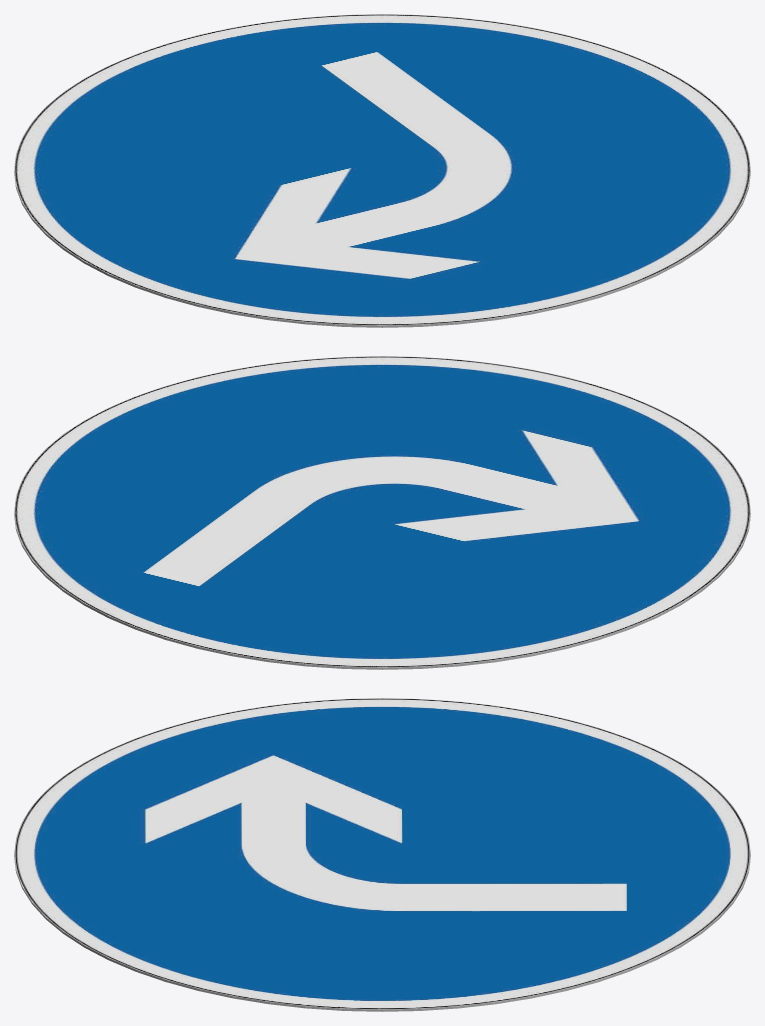
The picture shows the model from 3 angles, top to bottom: view 1: azimuth 30°, elevation 25°; view 2: azimuth 150°, elevation 25°; view 3: azimuth 270°, elevation 25°; orthographic projection.
Visible parts, largest first — view 1: Circle_Schild_Rund; view 2: Circle_Schild_Rund; view 3: Circle_Schild_Rund.
Part boxes in pixels (x1,y1,x2,y2): Circle_Schild_Rund: (14,14,750,327); Circle_Schild_Rund: (14,356,750,669); Circle_Schild_Rund: (14,698,750,1011).
Size of the model in its own units: 0.6 by 0.002 by 0.6.
Materials: 2 (1 with a texture image).
